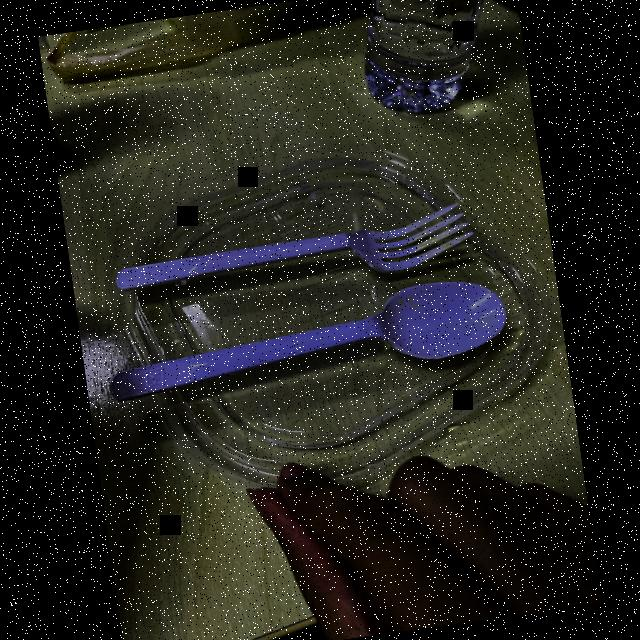plastic_spoon: (94, 262, 528, 434), (112, 189, 472, 313)
